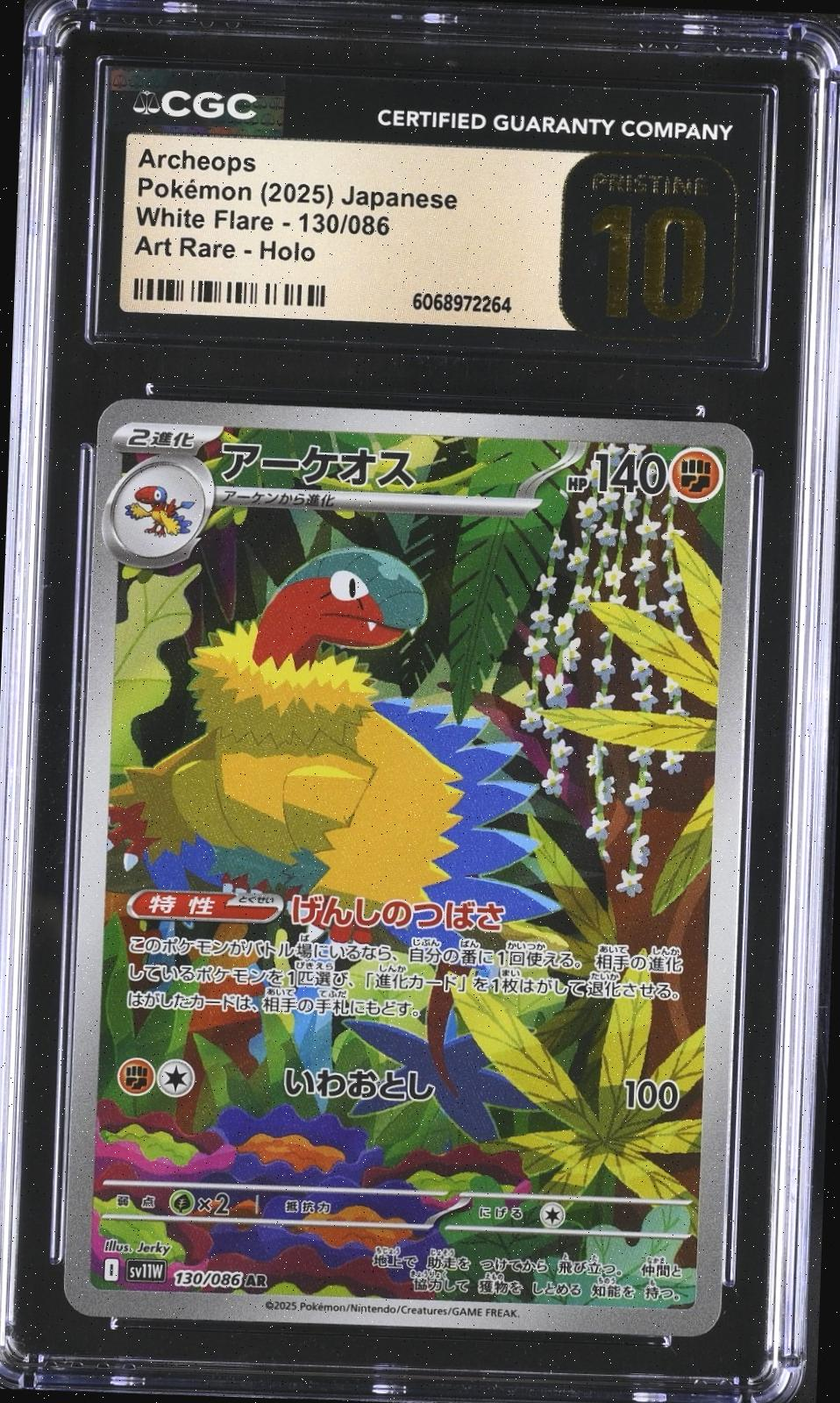card-2UtV: (63, 398, 753, 1338)
